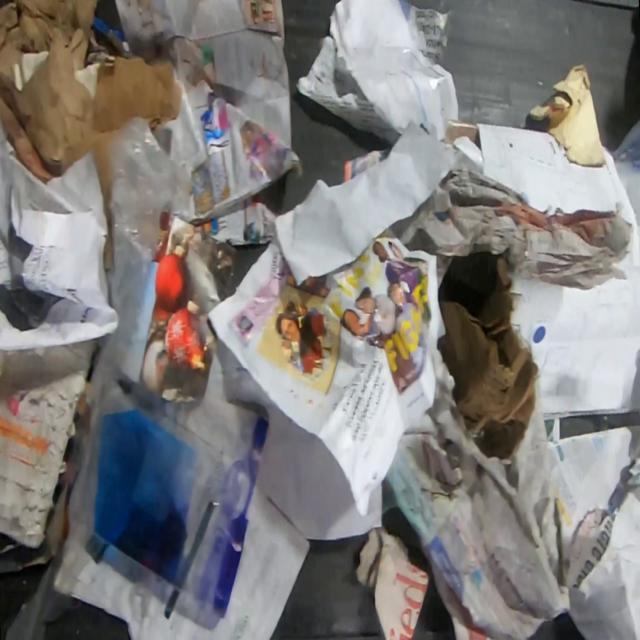cardboard: (0, 0, 181, 204), (435, 246, 544, 463), (0, 336, 96, 547)
soft_plastic: (72, 353, 272, 614), (84, 116, 190, 407), (610, 116, 640, 231)
